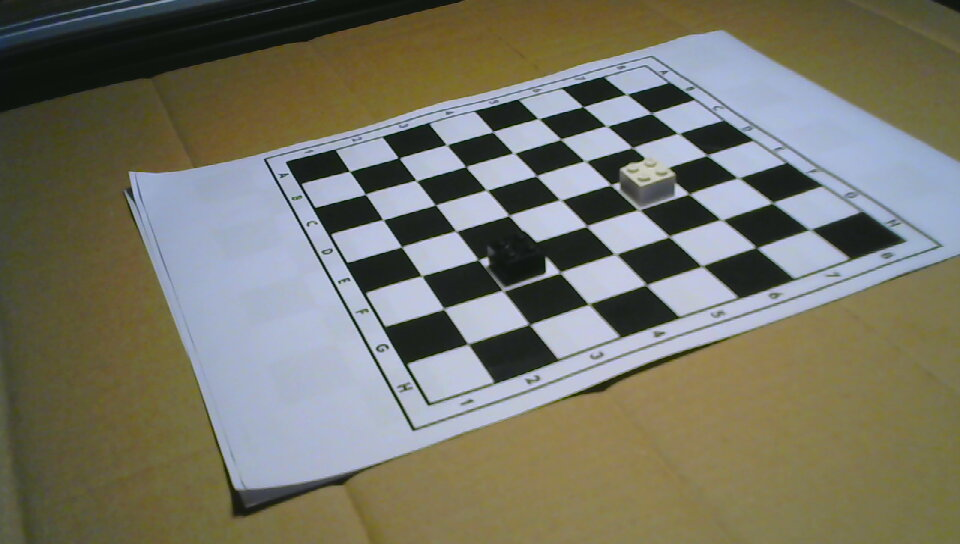bp: (486, 233, 544, 286)
wp: (620, 157, 676, 204)
